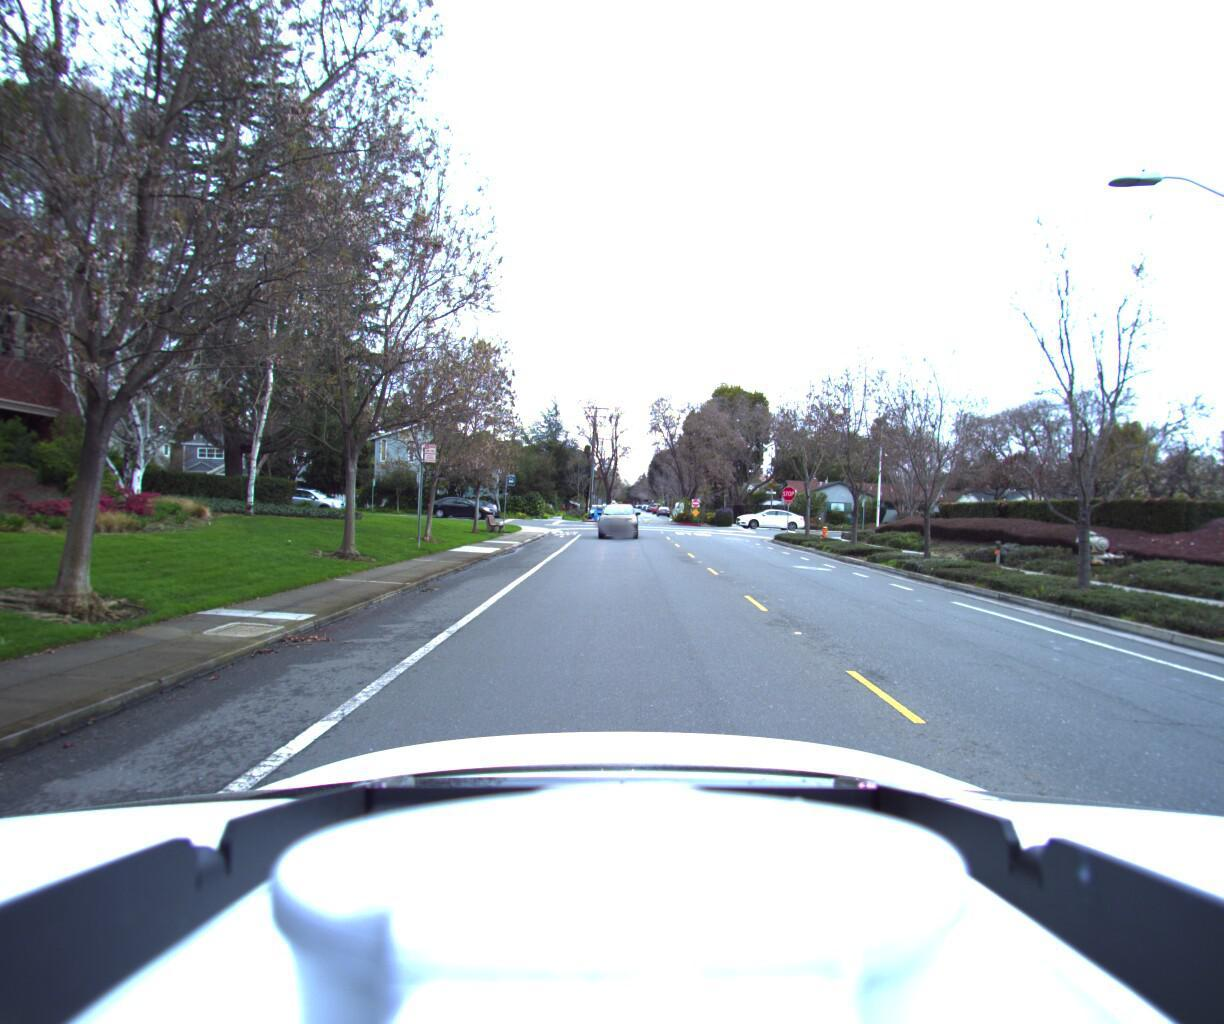car: (267, 485, 347, 517), (416, 496, 494, 522), (726, 509, 801, 534), (596, 504, 638, 541)
